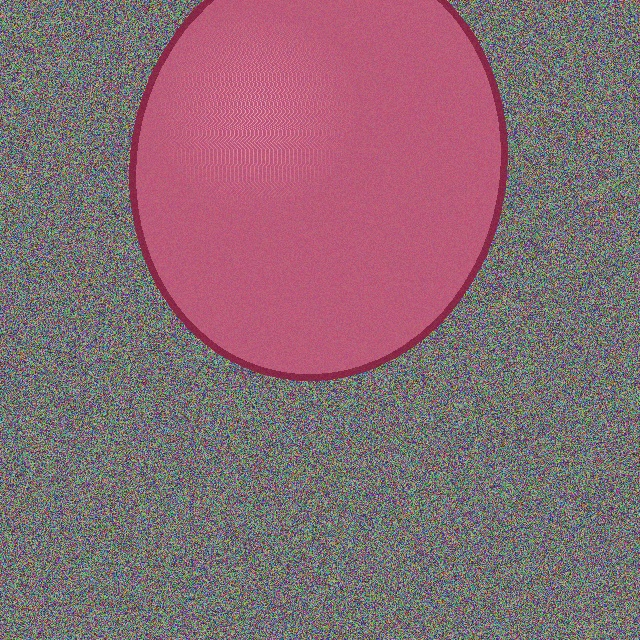lens: (132, 0, 504, 376)
